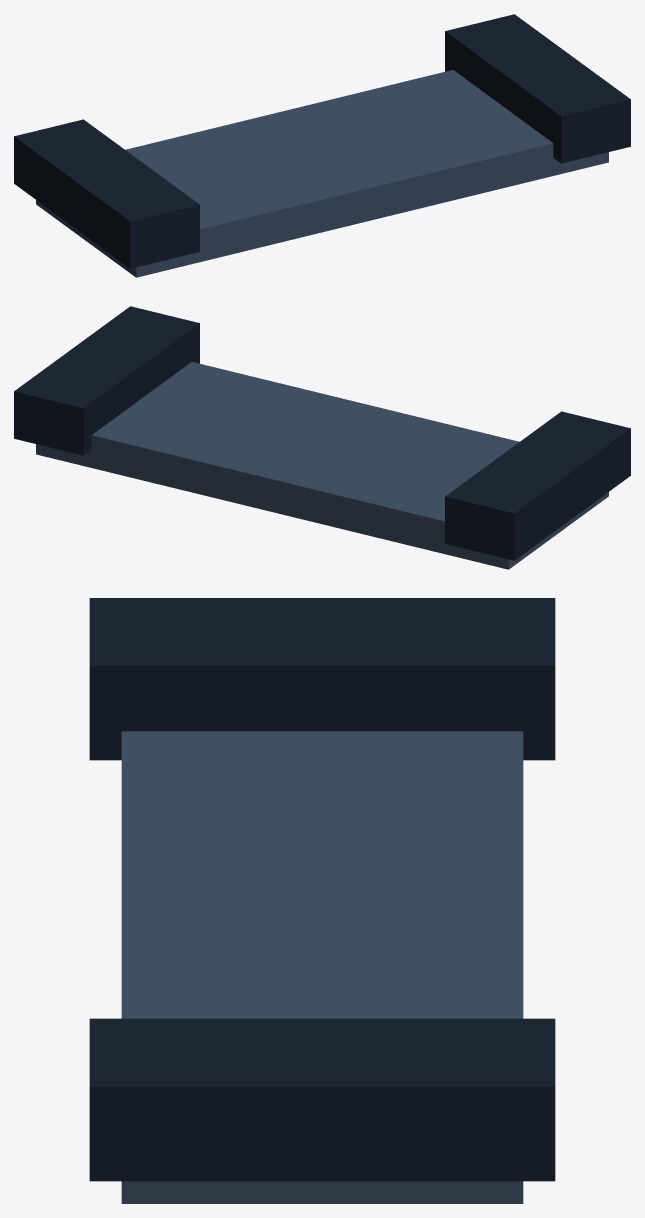
The model's file is env_ceiling_light.obj.
3 views of the same model, one above another, from view 1: azimuth 30°, elevation 25°; view 2: azimuth 150°, elevation 25°; view 3: azimuth 270°, elevation 25° (orthographic). The views are drawn at different scales.
Bounding box in the file's own units: 1.44 × 0.225 × 0.58.
